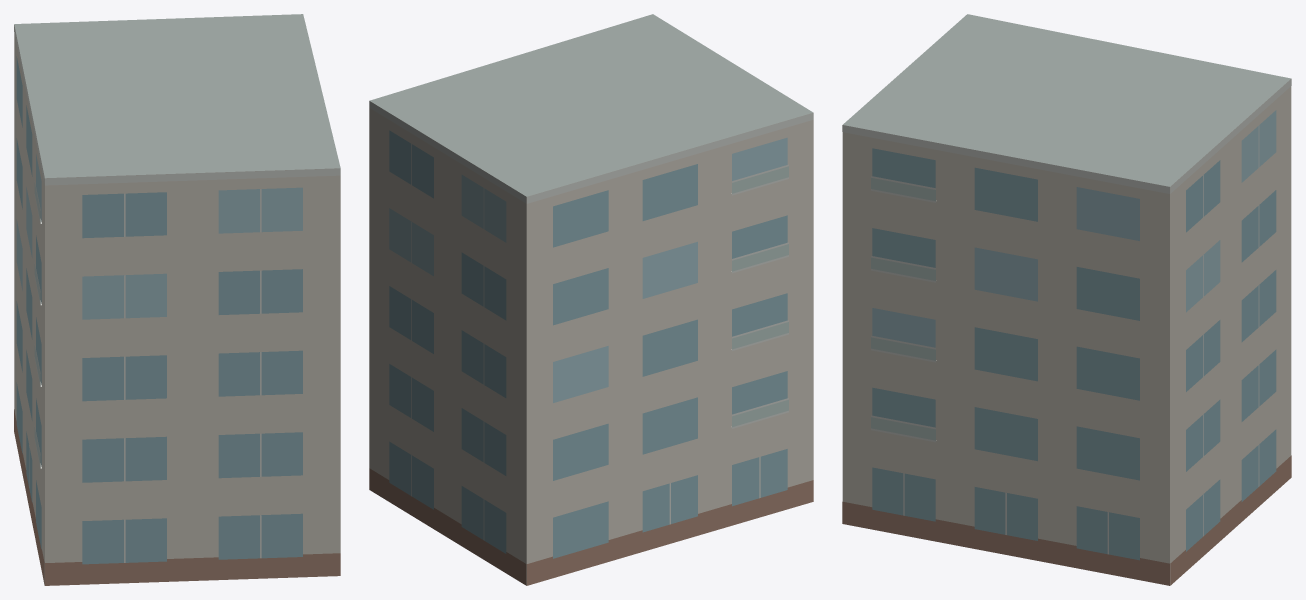
File: survey-upis-32681985.glb
3 renders of one model, left to right at view 1: azimuth 30°, elevation 25°; view 2: azimuth 150°, elevation 25°; view 3: azimuth 270°, elevation 25°, orthographic. The views are drawn at different scales.
Visible parts, largest first — view 1: survey-upis-32681985.tmp; view 2: survey-upis-32681985.tmp; view 3: survey-upis-32681985.tmp.
Part boxes in pixels (<box>): survey-upis-32681985.tmp: <box>14,14,340,585</box>; survey-upis-32681985.tmp: <box>369,14,813,585</box>; survey-upis-32681985.tmp: <box>842,14,1291,585</box>.
Bounding box in the file's own units: 12.46 × 13.4 × 13.68.
